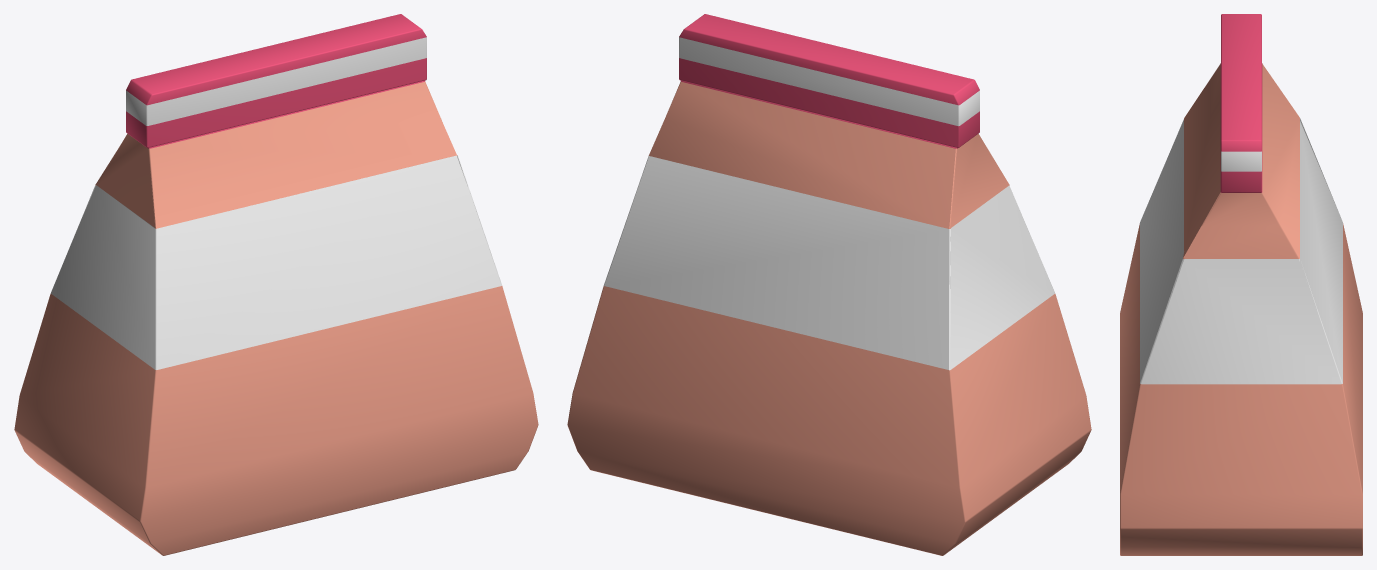
Rendered from paczka.gltf.
3 renders of one model, left to right at view 1: azimuth 30°, elevation 25°; view 2: azimuth 150°, elevation 25°; view 3: azimuth 270°, elevation 25°, orthographic. The views are drawn at different scales.
Parts seen in each view (by area): view 1: Cube.006; view 2: Cube.006; view 3: Cube.006.
Part boxes in pixels (bbox=[...]): Cube.006: bbox=[14, 14, 538, 555]; Cube.006: bbox=[567, 14, 1091, 555]; Cube.006: bbox=[1120, 14, 1362, 555].
Size of the model in its own units: 1.09 by 1.08 by 0.6015.
Materials: 1 (1 with a texture image).
